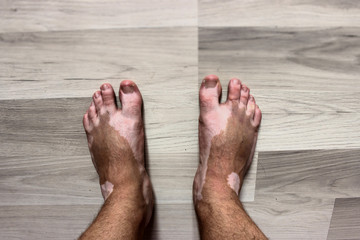vitiligo: (81, 92, 148, 169), (202, 79, 254, 173)
